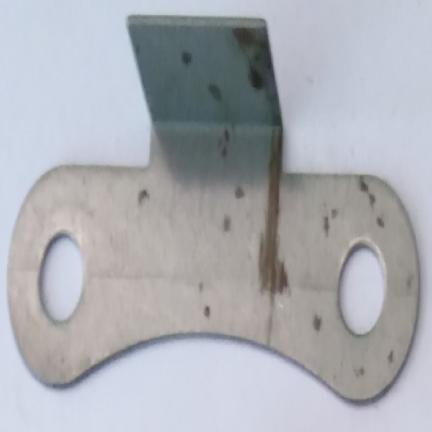besi_tidak_karat: (7, 16, 420, 401)
